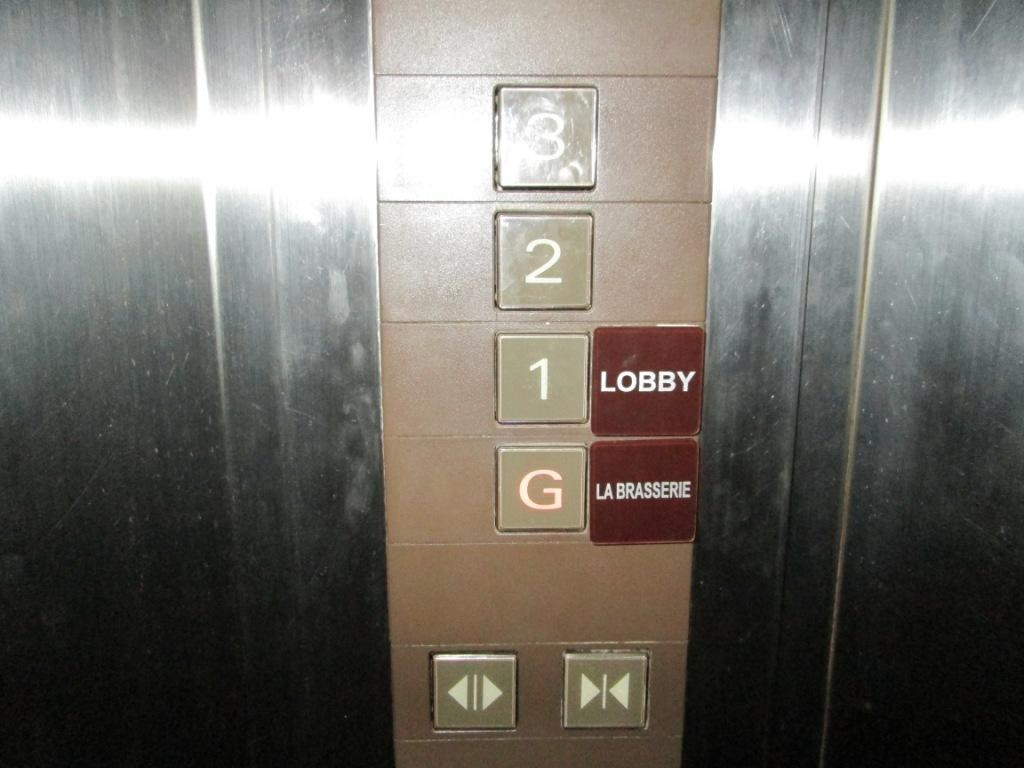1: (491, 325, 594, 428)
2: (488, 203, 599, 316)
3: (488, 78, 603, 194)
G: (491, 437, 591, 536)
close: (558, 641, 654, 735)
open: (425, 644, 521, 738)
